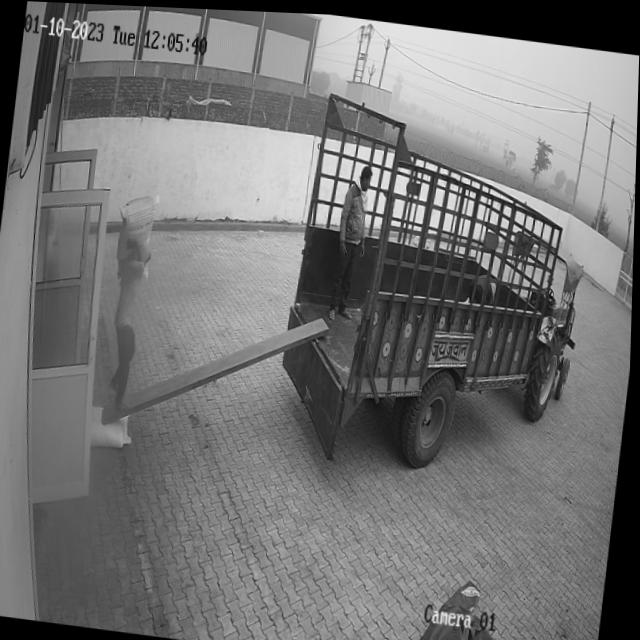sack: (112, 187, 161, 280), (90, 402, 136, 448)
